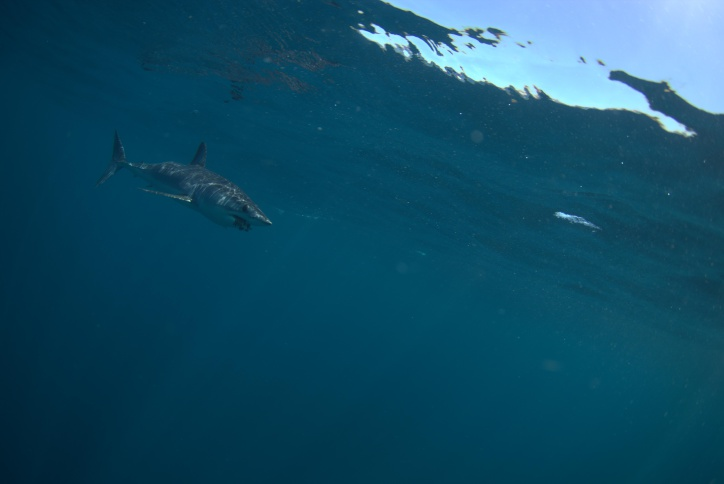Mako: (90, 122, 281, 240)
